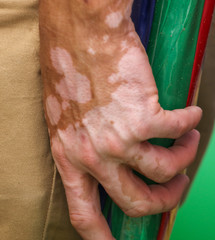vitiligo: (39, 41, 178, 205)
